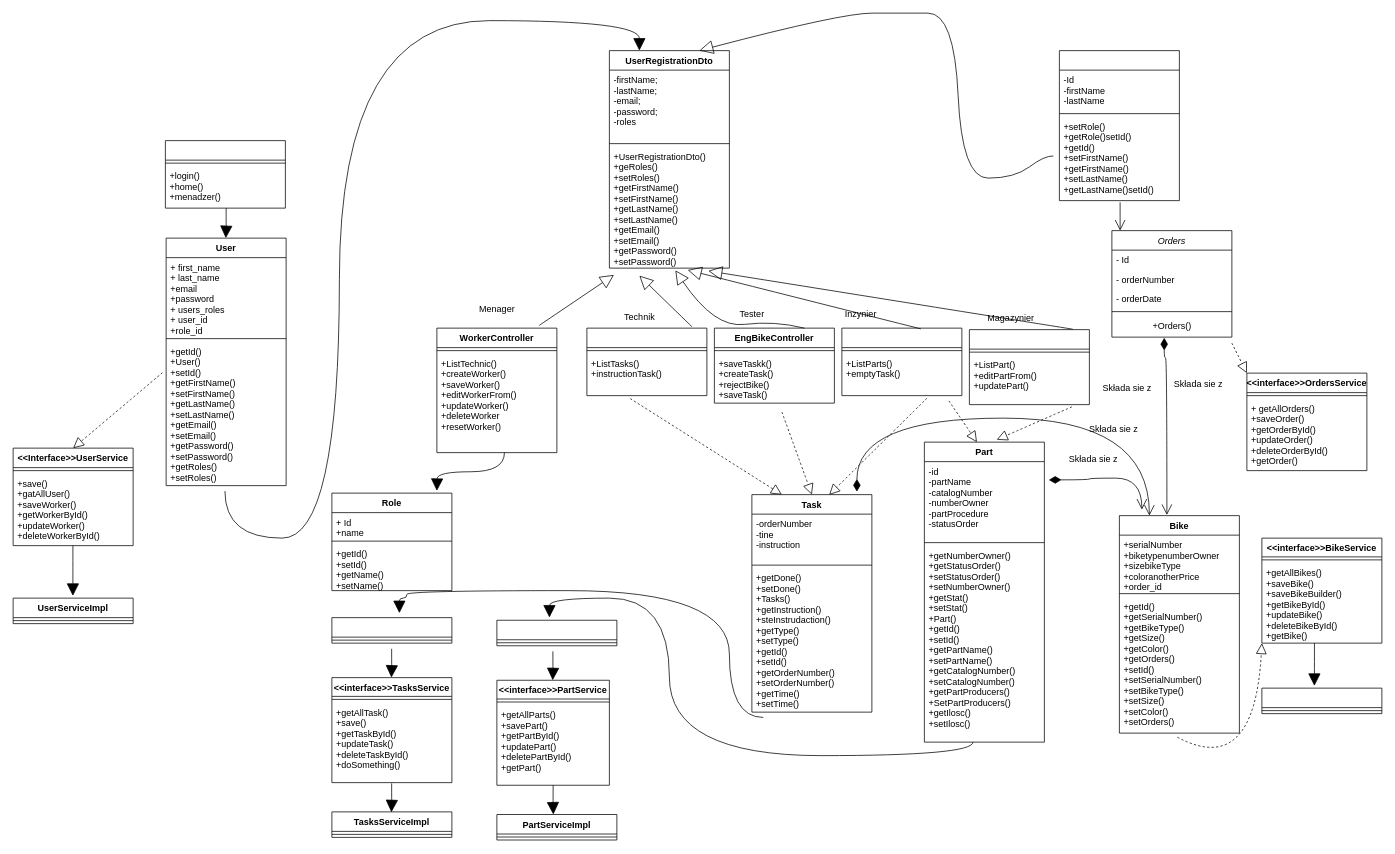
Image size: 1395x854. Some labels were removed from this diagram. Here are the shapes that lost their labels. From the top down, the box of each, then its label:
(1059, 50, 1179, 201): Client
(165, 140, 285, 208): MainController
(586, 327, 707, 396): TechnicController
(841, 327, 962, 396): EgineerController
(969, 329, 1089, 405): StockmanController
(331, 617, 452, 643): TaskRepo
(496, 620, 617, 646): PartRepository
(1261, 687, 1382, 714): BikeServiceImpl
